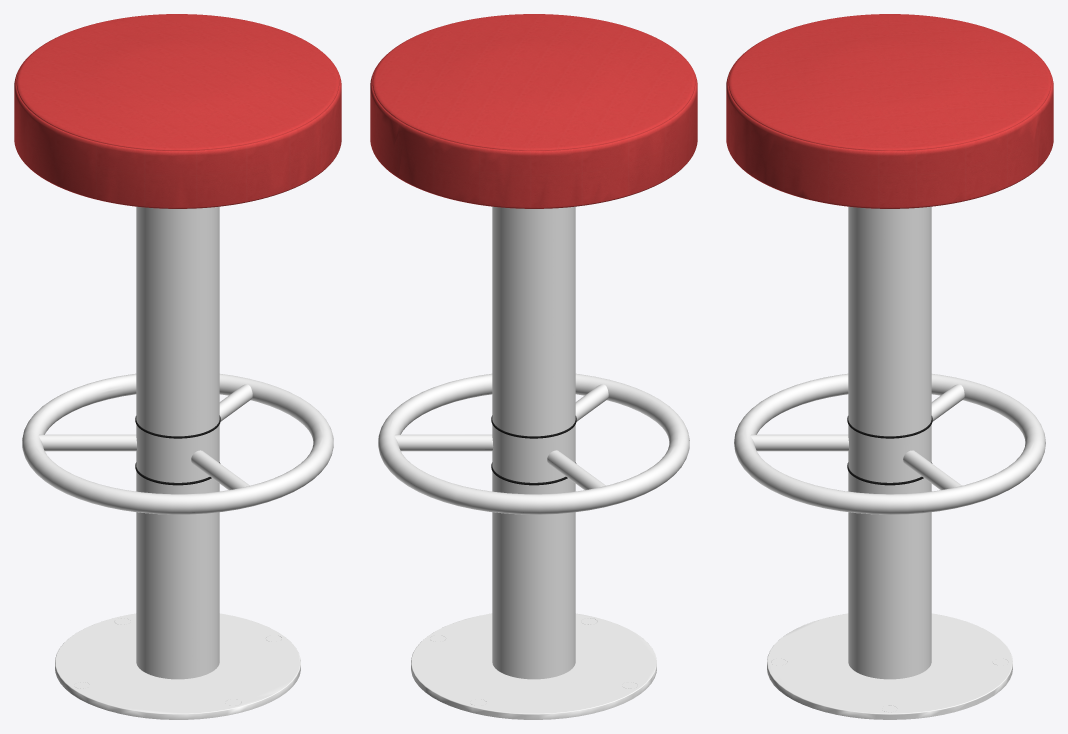
Rendered from c114-clun-289.glb.
3 renders of one model, left to right at view 1: azimuth 30°, elevation 25°; view 2: azimuth 150°, elevation 25°; view 3: azimuth 270°, elevation 25°, orthographic.
Parts seen in each view (by area): view 1: c114-base-piastra, c114-seduta-acciaio, c114-tubo-boccola-alta; view 2: c114-base-piastra, c114-seduta-acciaio, c114-tubo-boccola-alta; view 3: c114-base-piastra, c114-seduta-acciaio, c114-tubo-boccola-alta.
Boxes of the visible parts, <box> form: c114-base-piastra: <box>22,206,333,719</box>; c114-seduta-acciaio: <box>14,14,341,208</box>; c114-tubo-boccola-alta: <box>135,415,220,485</box>; c114-base-piastra: <box>378,206,689,719</box>; c114-seduta-acciaio: <box>370,14,697,208</box>; c114-tubo-boccola-alta: <box>491,415,576,485</box>; c114-base-piastra: <box>734,206,1045,719</box>; c114-seduta-acciaio: <box>726,14,1053,208</box>; c114-tubo-boccola-alta: <box>847,416,932,485</box>.
Size of the model in its own units: 0.3991 by 0.8009 by 0.3991.
4 materials, 1 textured.
